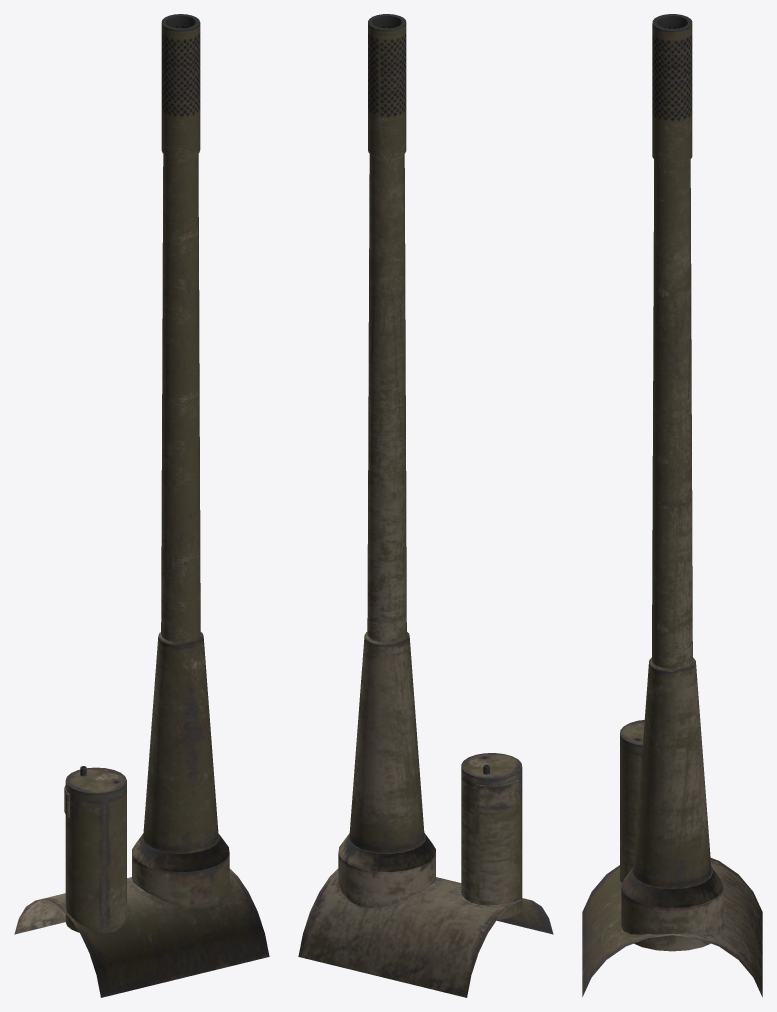
Rendered from Gun_02.glb.
The picture shows the model from 3 angles, left to right: view 1: azimuth 30°, elevation 25°; view 2: azimuth 150°, elevation 25°; view 3: azimuth 270°, elevation 25°; orthographic projection. The views are drawn at different scales.
Visible parts, largest first — view 1: set_0_group_0; view 2: set_0_group_0; view 3: set_0_group_0.
Part boxes in pixels (<box>): set_0_group_0: <box>14,14,269,997</box>; set_0_group_0: <box>298,14,553,997</box>; set_0_group_0: <box>582,14,762,997</box>.
Bounding box in the file's own units: 0.6815 × 3.52 × 0.6042.
1 material, 1 textured.
